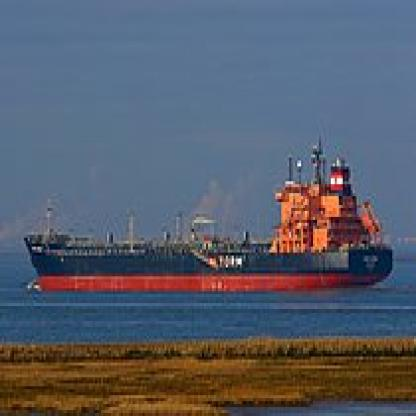Tanker: (30, 190, 398, 291)
